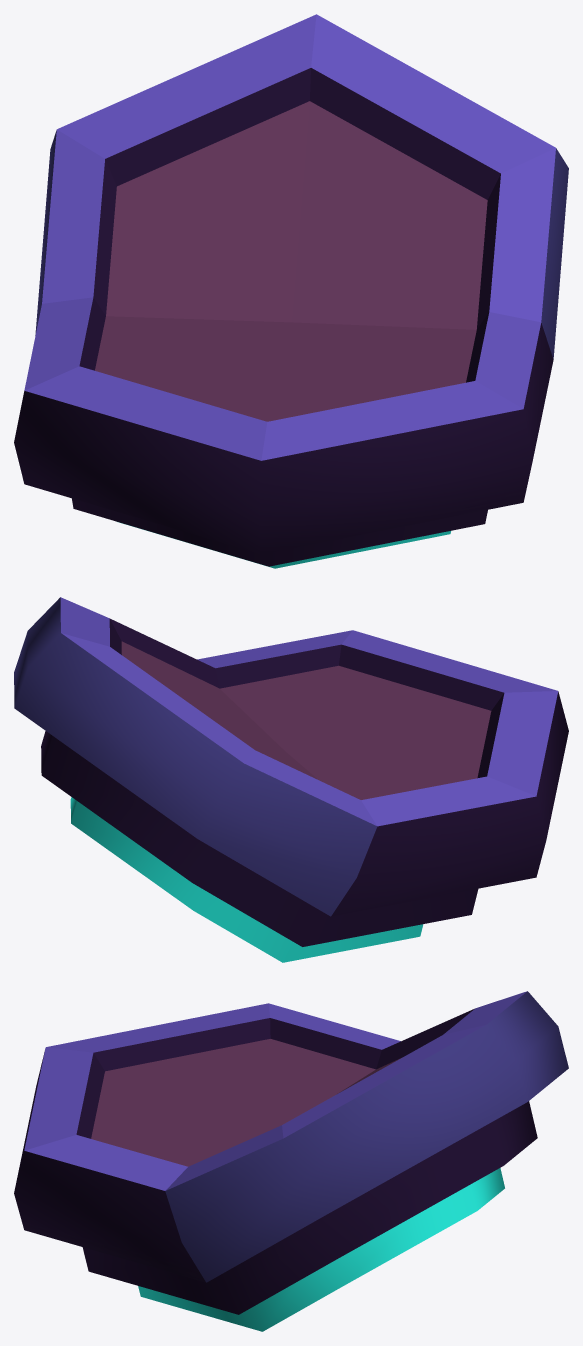
The model's file is silla.FBX.
The picture shows the model from 3 angles, top to bottom: view 1: azimuth 30°, elevation 25°; view 2: azimuth 150°, elevation 25°; view 3: azimuth 270°, elevation 25°; orthographic projection. The views are drawn at different scales.
Parts seen in each view (by area): view 1: Cylinder003; view 2: Cylinder003; view 3: Cylinder003.
Part boxes in pixels (x1,y1,x2,y2): Cylinder003: (14, 14, 568, 568); Cylinder003: (14, 597, 568, 962); Cylinder003: (14, 991, 568, 1331).
Bounding box in the file's own units: 21.56 × 12.56 × 21.
